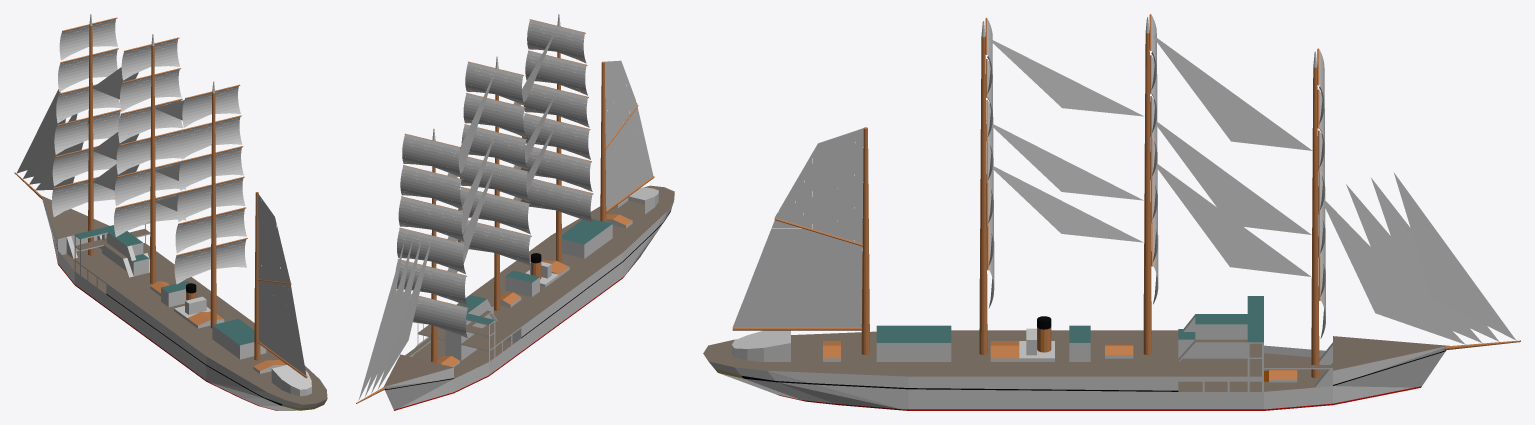
File: Nipponmaru.obj
3 renders of one model, left to right at view 1: azimuth 30°, elevation 25°; view 2: azimuth 150°, elevation 25°; view 3: azimuth 270°, elevation 25°, orthographic. The views are drawn at different scales.
Visible parts, largest first — view 1: ShapeIndexedFaceSet.003_ShapeIndexedFaceSet.004, ShapeIndexedFaceSet.007_ShapeIndexedFaceSet.008, ShapeIndexedFaceSet.014_ShapeIndexedFaceSet.015, ShapeIndexedFaceSet.143_ShapeIndexedFaceSet.144, ShapeIndexedFaceSet.081_ShapeIndexedFaceSet.082, ShapeIndexedFaceSet.019_ShapeIndexedFaceSet.020, ShapeIndexedFaceSet.005_ShapeIndexedFaceSet.006, ShapeIndexedFaceSet_ShapeIndexedFaceSet.001, ShapeIndexedFaceSet.008_ShapeIndexedFaceSet.009, ShapeIndexedFaceSet.001_ShapeIndexedFaceSet.002, ShapeIndexedFaceSet.232_ShapeIndexedFaceSet.233, ShapeIndexedFaceSet.231_ShapeIndexedFaceSet.232 (+15 smaller); view 2: ShapeIndexedFaceSet.003_ShapeIndexedFaceSet.004, ShapeIndexedFaceSet.007_ShapeIndexedFaceSet.008, ShapeIndexedFaceSet.014_ShapeIndexedFaceSet.015, ShapeIndexedFaceSet.005_ShapeIndexedFaceSet.006, ShapeIndexedFaceSet.229_ShapeIndexedFaceSet.230, ShapeIndexedFaceSet.001_ShapeIndexedFaceSet.002, ShapeIndexedFaceSet.008_ShapeIndexedFaceSet.009, ShapeIndexedFaceSet.230_ShapeIndexedFaceSet.231, ShapeIndexedFaceSet.231_ShapeIndexedFaceSet.232, ShapeIndexedFaceSet.232_ShapeIndexedFaceSet.233, ShapeIndexedFaceSet.081_ShapeIndexedFaceSet.082, ShapeIndexedFaceSet.143_ShapeIndexedFaceSet.144 (+15 smaller); view 3: ShapeIndexedFaceSet.007_ShapeIndexedFaceSet.008, ShapeIndexedFaceSet.003_ShapeIndexedFaceSet.004, ShapeIndexedFaceSet.232_ShapeIndexedFaceSet.233, ShapeIndexedFaceSet.235_ShapeIndexedFaceSet.236, ShapeIndexedFaceSet.234_ShapeIndexedFaceSet.235, ShapeIndexedFaceSet.233_ShapeIndexedFaceSet.234, ShapeIndexedFaceSet.014_ShapeIndexedFaceSet.015, ShapeIndexedFaceSet.005_ShapeIndexedFaceSet.006, ShapeIndexedFaceSet.229_ShapeIndexedFaceSet.230, ShapeIndexedFaceSet.230_ShapeIndexedFaceSet.231, ShapeIndexedFaceSet.231_ShapeIndexedFaceSet.232, ShapeIndexedFaceSet.238_ShapeIndexedFaceSet (+27 smaller).
Boxes of the visible parts, x1=… form: ShapeIndexedFaceSet.003_ShapeIndexedFaceSet.004: x1=41, y1=195, x2=327, y2=404; ShapeIndexedFaceSet.007_ShapeIndexedFaceSet.008: x1=42, y1=198, x2=326, y2=410; ShapeIndexedFaceSet.014_ShapeIndexedFaceSet.015: x1=58, y1=222, x2=285, y2=389; ShapeIndexedFaceSet.143_ShapeIndexedFaceSet.144: x1=176, y1=84, x2=247, y2=322; ShapeIndexedFaceSet.081_ShapeIndexedFaceSet.082: x1=115, y1=37, x2=183, y2=275; ShapeIndexedFaceSet.019_ShapeIndexedFaceSet.020: x1=53, y1=17, x2=120, y2=255; ShapeIndexedFaceSet.005_ShapeIndexedFaceSet.006: x1=75, y1=225, x2=254, y2=345; ShapeIndexedFaceSet_ShapeIndexedFaceSet.001: x1=74, y1=245, x2=311, y2=389; ShapeIndexedFaceSet.008_ShapeIndexedFaceSet.009: x1=150, y1=192, x2=260, y2=360; ShapeIndexedFaceSet.001_ShapeIndexedFaceSet.002: x1=14, y1=172, x2=307, y2=378; ShapeIndexedFaceSet.232_ShapeIndexedFaceSet.233: x1=16, y1=89, x2=60, y2=173; ShapeIndexedFaceSet.231_ShapeIndexedFaceSet.232: x1=23, y1=117, x2=65, y2=178; ShapeIndexedFaceSet.003_ShapeIndexedFaceSet.004: x1=383, y1=185, x2=674, y2=386; ShapeIndexedFaceSet.007_ShapeIndexedFaceSet.008: x1=384, y1=191, x2=673, y2=409; ShapeIndexedFaceSet.014_ShapeIndexedFaceSet.015: x1=417, y1=196, x2=654, y2=364; ShapeIndexedFaceSet.005_ShapeIndexedFaceSet.006: x1=457, y1=218, x2=611, y2=324; ShapeIndexedFaceSet.229_ShapeIndexedFaceSet.230: x1=377, y1=242, x2=430, y2=389; ShapeIndexedFaceSet.001_ShapeIndexedFaceSet.002: x1=356, y1=105, x2=654, y2=403; ShapeIndexedFaceSet.008_ShapeIndexedFaceSet.009: x1=494, y1=61, x2=606, y2=310; ShapeIndexedFaceSet.230_ShapeIndexedFaceSet.231: x1=371, y1=239, x2=421, y2=393; ShapeIndexedFaceSet.231_ShapeIndexedFaceSet.232: x1=365, y1=239, x2=412, y2=396; ShapeIndexedFaceSet.232_ShapeIndexedFaceSet.233: x1=358, y1=242, x2=404, y2=400; ShapeIndexedFaceSet.081_ShapeIndexedFaceSet.082: x1=461, y1=61, x2=531, y2=302; ShapeIndexedFaceSet.143_ShapeIndexedFaceSet.144: x1=524, y1=19, x2=593, y2=259; ShapeIndexedFaceSet.007_ShapeIndexedFaceSet.008: x1=708, y1=317, x2=1332, y2=409; ShapeIndexedFaceSet.003_ShapeIndexedFaceSet.004: x1=703, y1=330, x2=1448, y2=391; ShapeIndexedFaceSet.232_ShapeIndexedFaceSet.233: x1=1393, y1=172, x2=1515, y2=340; ShapeIndexedFaceSet.235_ShapeIndexedFaceSet.236: x1=1153, y1=35, x2=1312, y2=150; ShapeIndexedFaceSet.234_ShapeIndexedFaceSet.235: x1=1155, y1=121, x2=1311, y2=234; ShapeIndexedFaceSet.233_ShapeIndexedFaceSet.234: x1=1156, y1=163, x2=1311, y2=276; ShapeIndexedFaceSet.014_ShapeIndexedFaceSet.015: x1=764, y1=340, x2=1448, y2=403; ShapeIndexedFaceSet.005_ShapeIndexedFaceSet.006: x1=876, y1=296, x2=1263, y2=342; ShapeIndexedFaceSet.229_ShapeIndexedFaceSet.230: x1=1323, y1=199, x2=1465, y2=344; ShapeIndexedFaceSet.230_ShapeIndexedFaceSet.231: x1=1346, y1=184, x2=1482, y2=343; ShapeIndexedFaceSet.231_ShapeIndexedFaceSet.232: x1=1371, y1=178, x2=1499, y2=341; ShapeIndexedFaceSet.238_ShapeIndexedFaceSet: x1=988, y1=38, x2=1144, y2=116.
Bounding box in the file's own units: 133 × 485 × 970.
